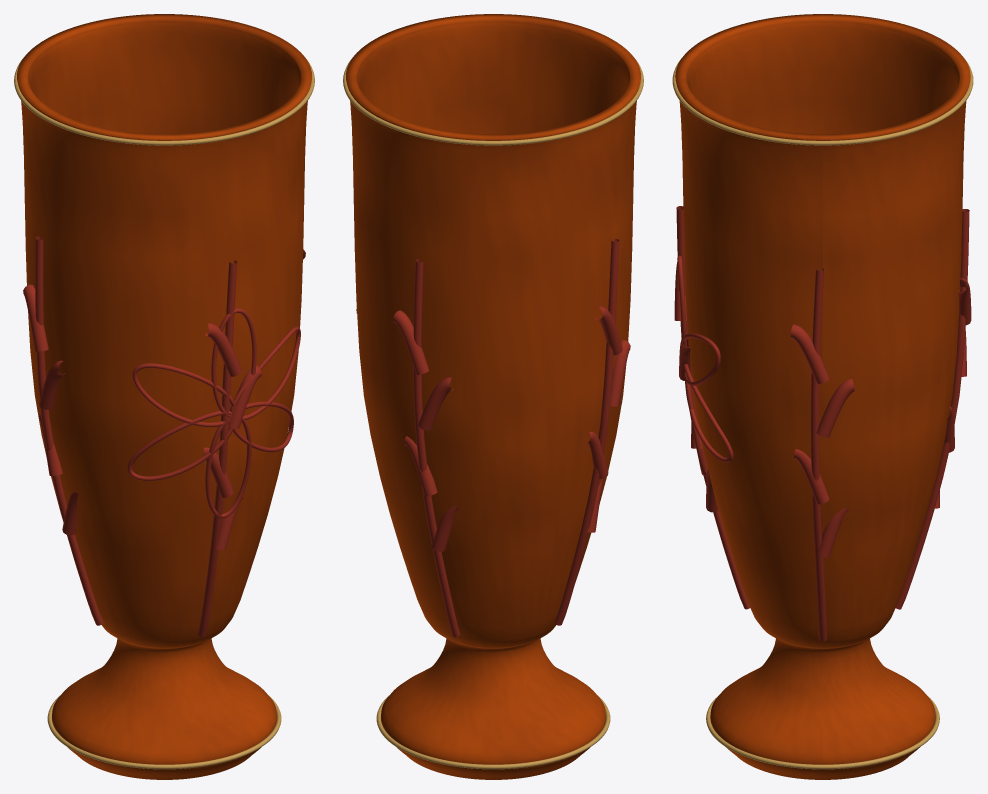
Rendered from bcm-992.glb.
3 views of the same model, side by side, from view 1: azimuth 30°, elevation 25°; view 2: azimuth 150°, elevation 25°; view 3: azimuth 270°, elevation 25° (orthographic).
Visible parts, largest first — view 1: Continuous hollow vessel with formed lip, Botanical stem - simplified, Rim and foot highlight; view 2: Continuous hollow vessel with formed lip, Botanical stem - simplified, Rim and foot highlight; view 3: Continuous hollow vessel with formed lip, Botanical stem - simplified, Rim and foot highlight.
Part boxes in pixels (x1,y1,x2,y2): Continuous hollow vessel with formed lip: (17,14,311,779); Botanical stem - simplified: (23,236,305,637); Rim and foot highlight: (14,59,314,769); Continuous hollow vessel with formed lip: (346,14,640,779); Botanical stem - simplified: (356,238,630,637); Rim and foot highlight: (343,57,643,769); Continuous hollow vessel with formed lip: (675,14,970,779); Botanical stem - simplified: (674,206,971,641); Rim and foot highlight: (672,58,973,769).
Bounding box in the file's own units: 0.5097 × 1.24 × 0.5097.
